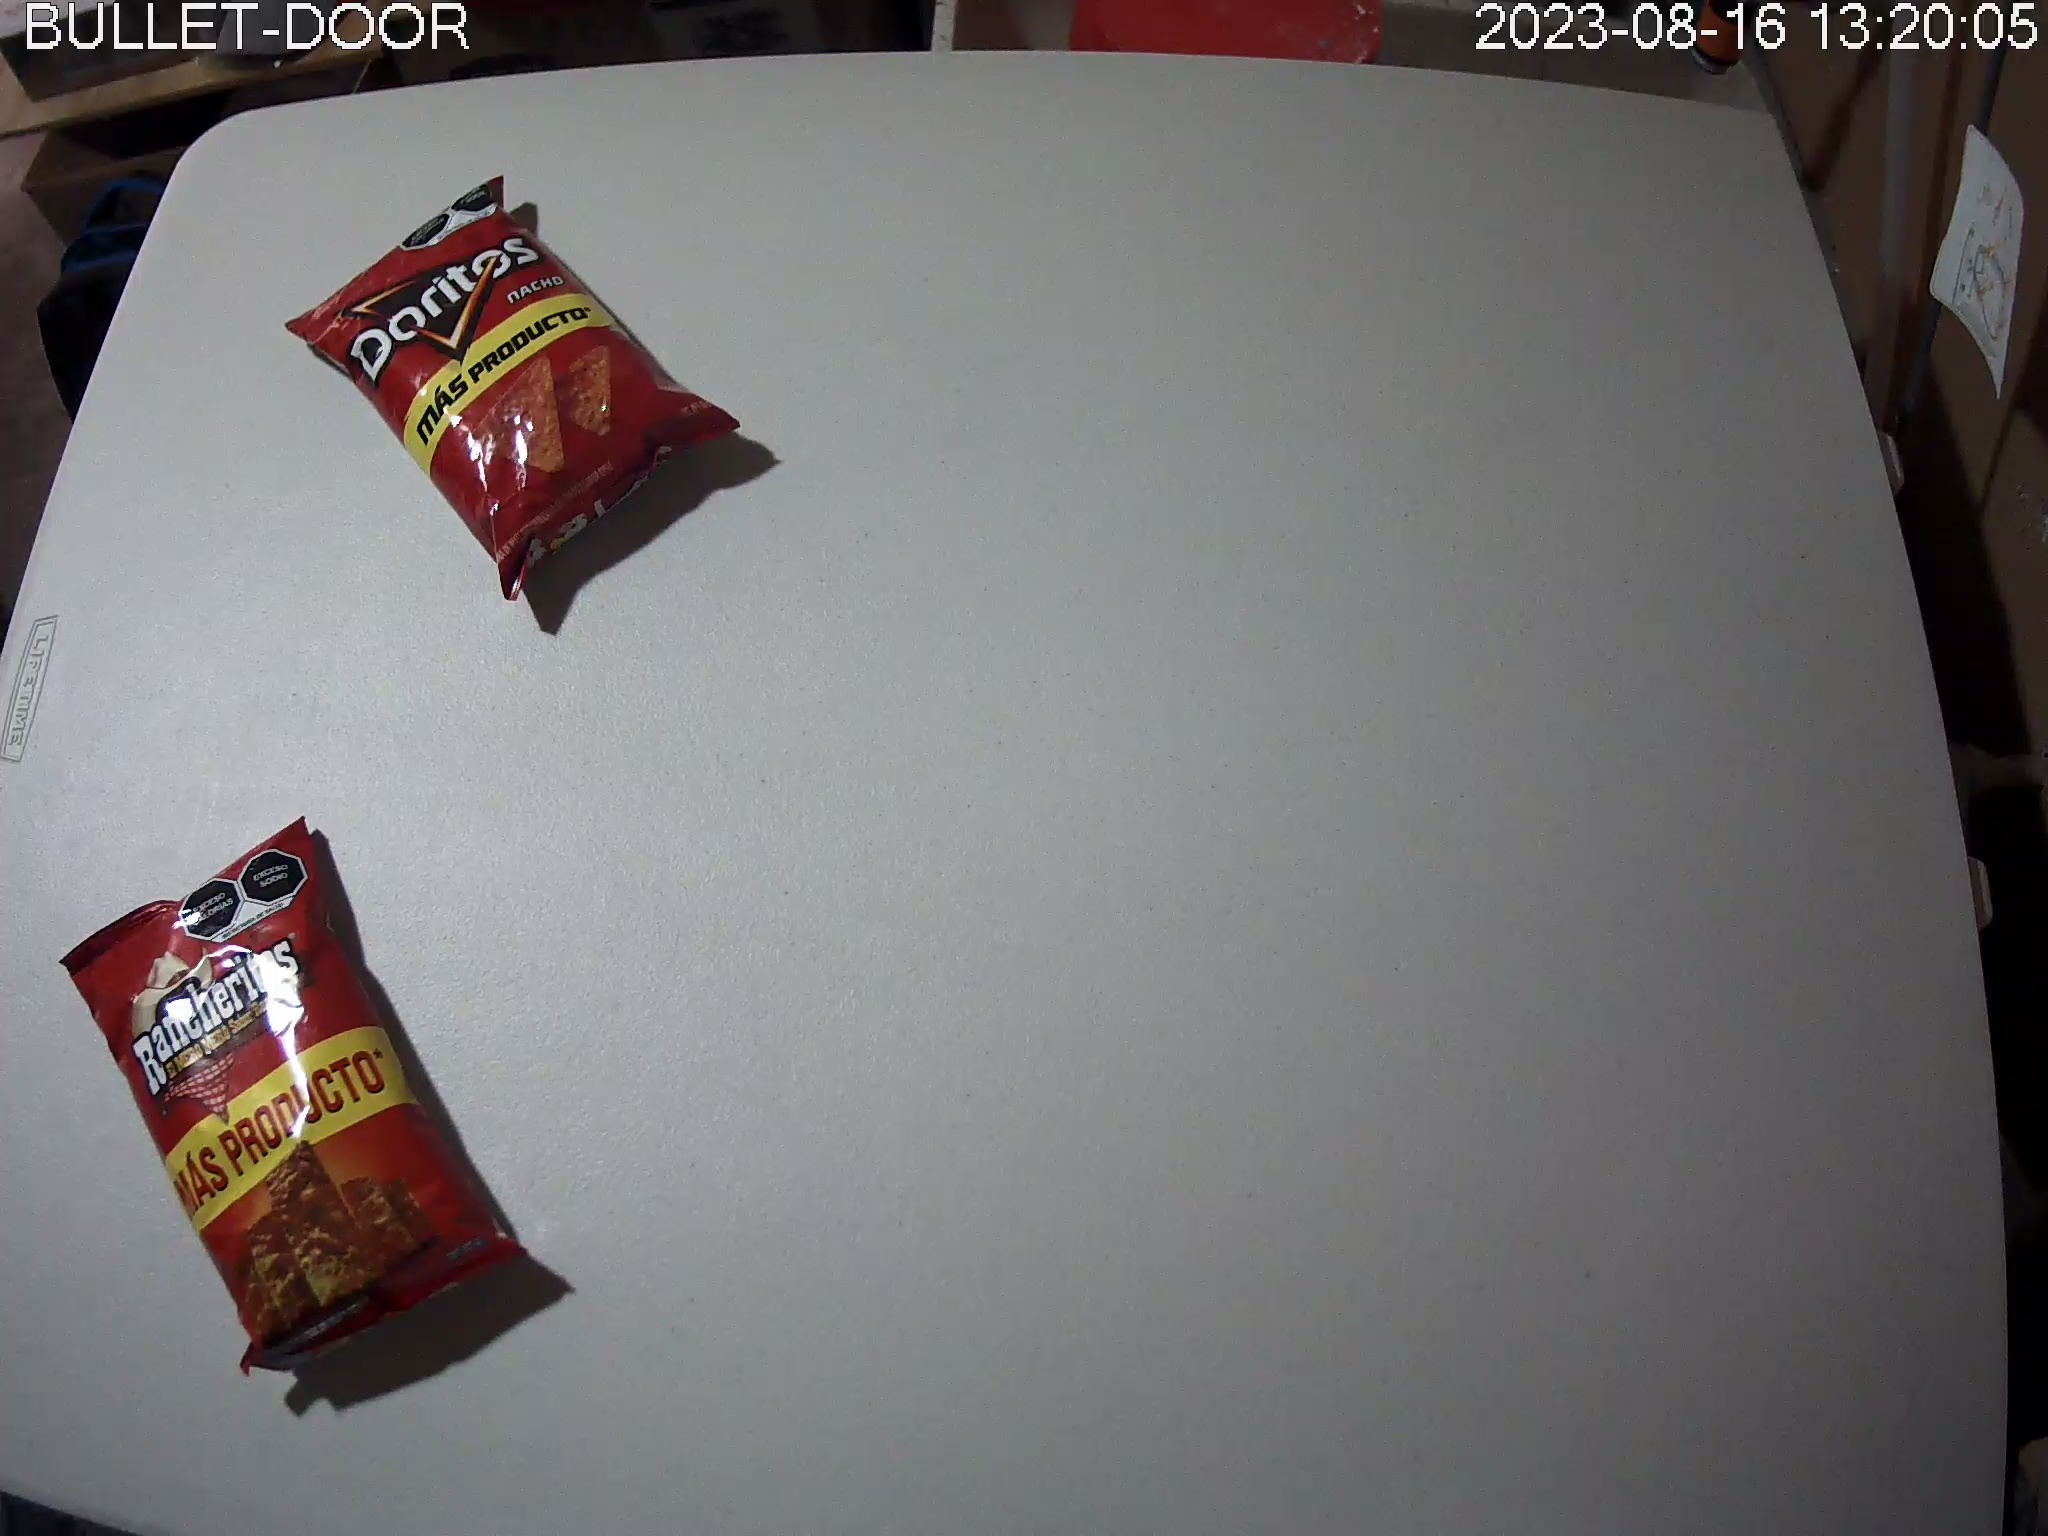DoritosN_61_F: (282, 174, 743, 600)
Rancheritos_58_F: (60, 815, 531, 1379)
